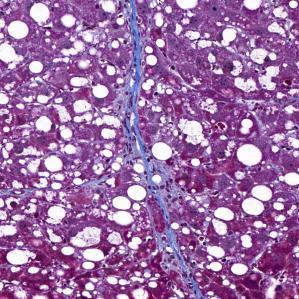fibrosis: (129, 66, 163, 166), (144, 209, 186, 262)
